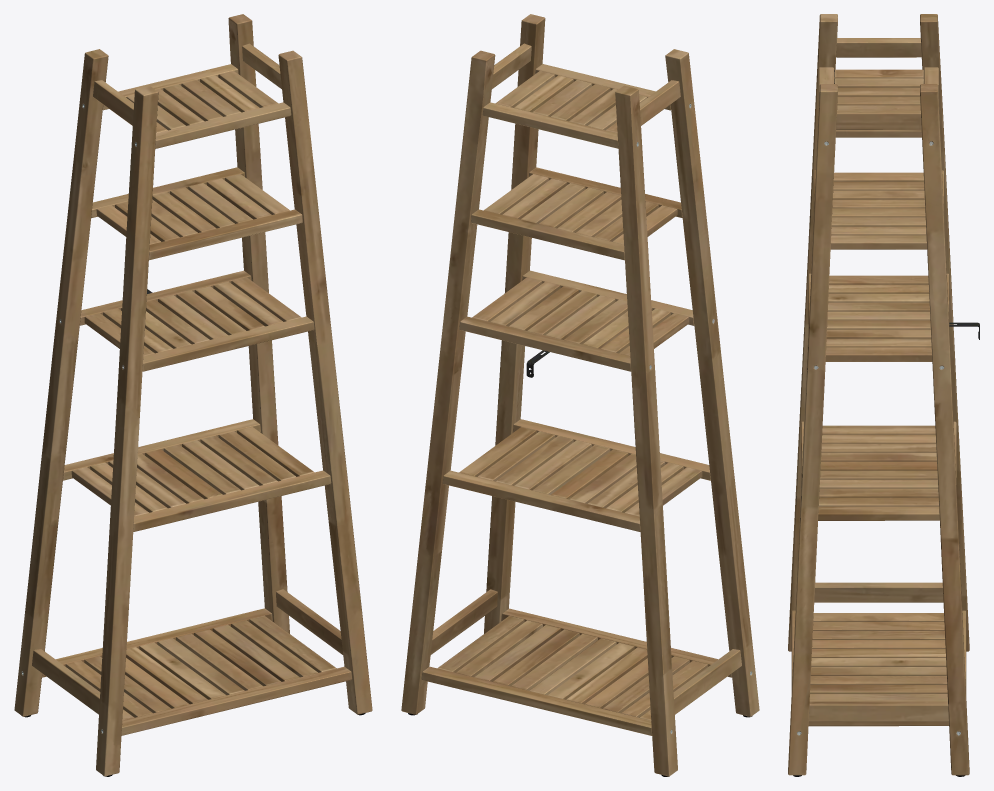
3 renders of one model, left to right at view 1: azimuth 30°, elevation 25°; view 2: azimuth 150°, elevation 25°; view 3: azimuth 270°, elevation 25°, orthographic.
Parts seen in each view (by area): view 1: ASY_ART_10576167_S01_NV01.001; view 2: ASY_ART_10576167_S01_NV01.001; view 3: ASY_ART_10576167_S01_NV01.001.
Part boxes in pixels (x1,y1,x2,y2): ASY_ART_10576167_S01_NV01.001: [14, 14, 372, 776]; ASY_ART_10576167_S01_NV01.001: [401, 14, 759, 776]; ASY_ART_10576167_S01_NV01.001: [788, 14, 979, 776].
Bounding box in the file's own units: 0.5994 × 1.41 × 0.3698.
1 material, 1 textured.
